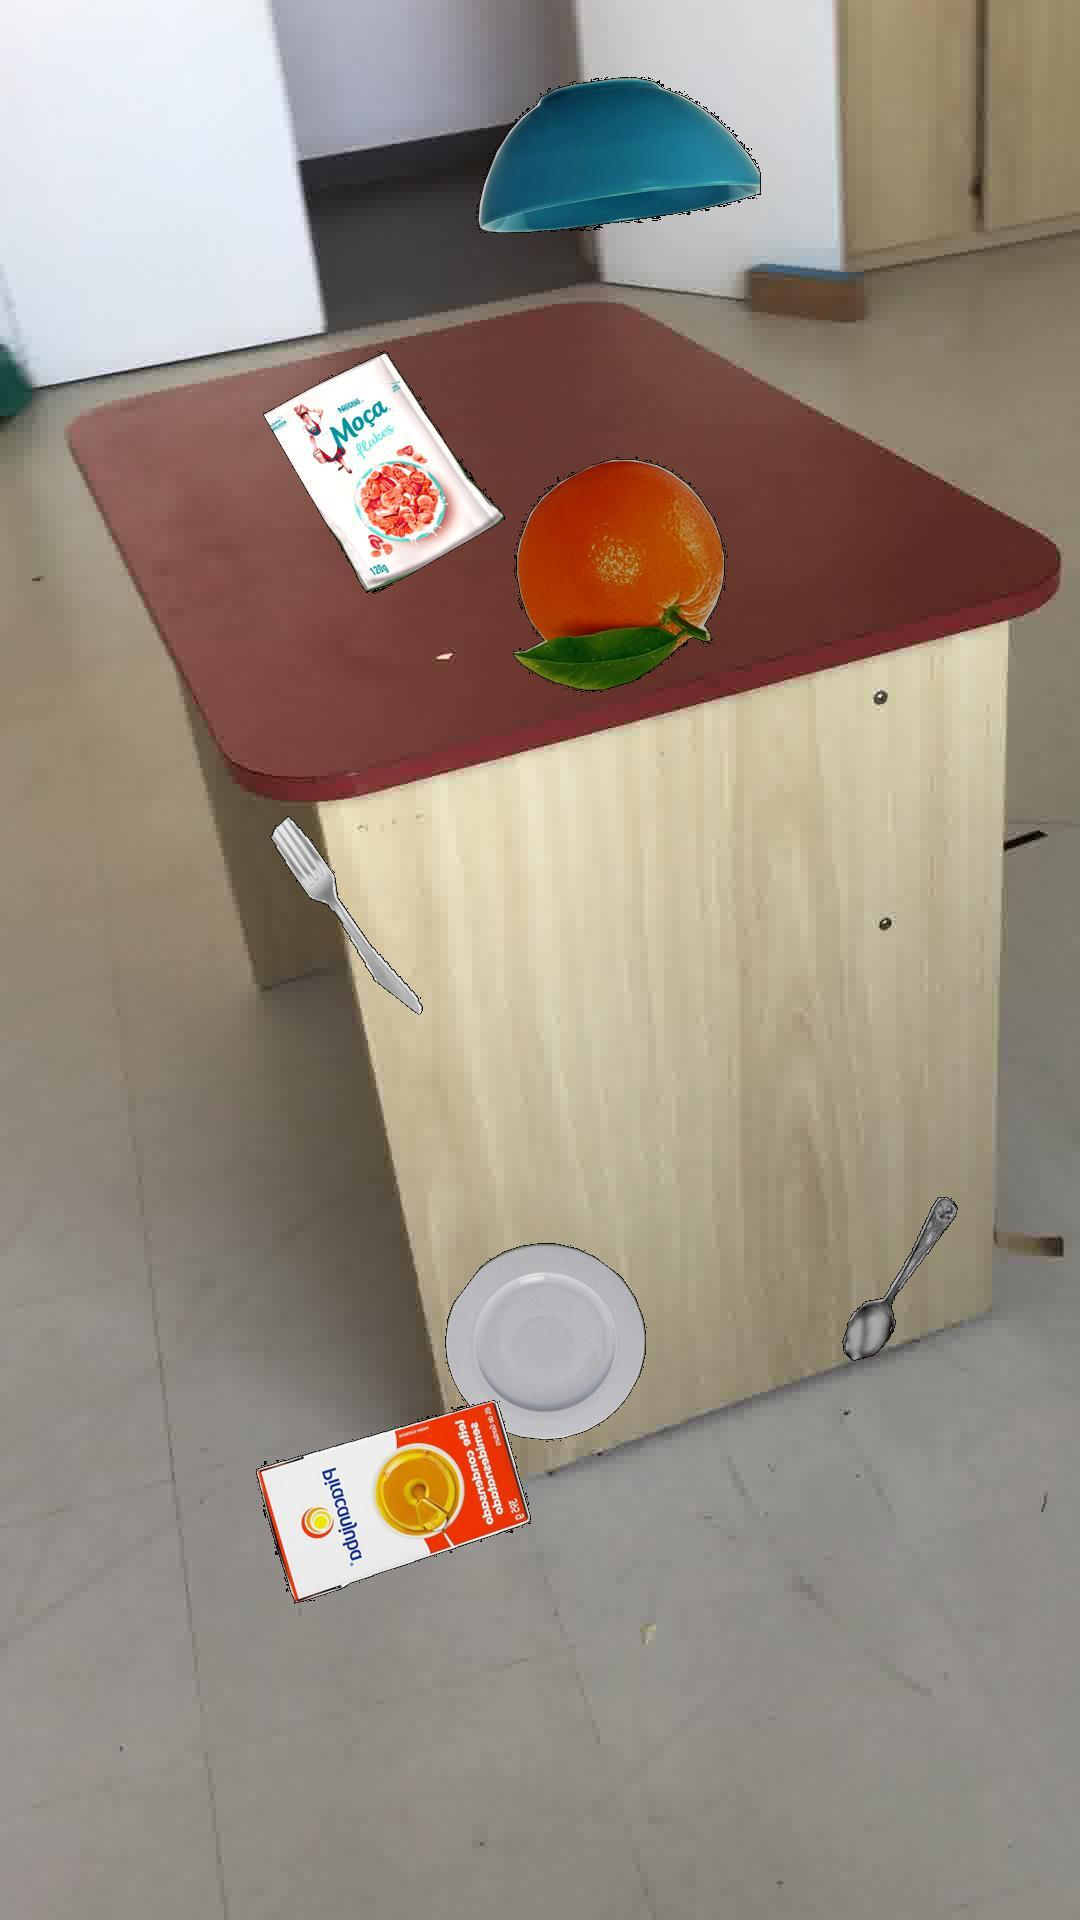bowl: (475, 75, 760, 232)
corn flakes: (261, 351, 504, 592)
fork: (269, 815, 422, 1014)
orange: (512, 455, 724, 691)
plate: (443, 1241, 645, 1439)
spoon: (840, 1196, 956, 1360)
